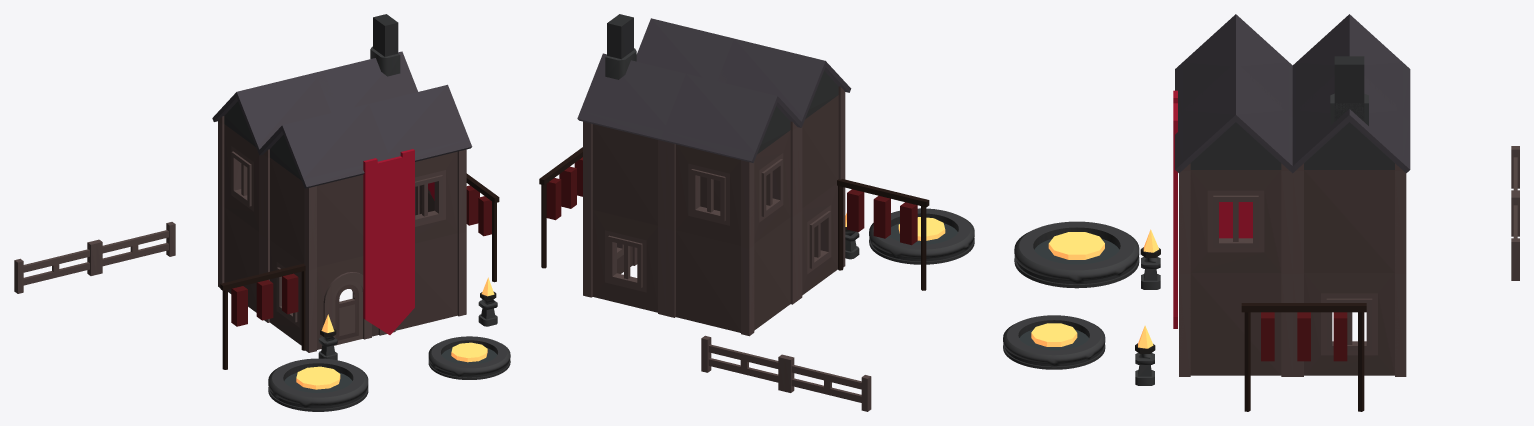
File: slaughter_l3.glb
The picture shows the model from 3 angles, left to right: view 1: azimuth 30°, elevation 25°; view 2: azimuth 150°, elevation 25°; view 3: azimuth 270°, elevation 25°; orthographic projection. The views are drawn at different scales.
Parts seen in each view (by area): view 1: slaughter_l3; view 2: slaughter_l3; view 3: slaughter_l3.
Part boxes in pixels (x1,y1,x2,y2): slaughter_l3: [14, 14, 510, 411]; slaughter_l3: [539, 14, 974, 411]; slaughter_l3: [1003, 14, 1519, 411].
Bounding box in the file's own units: 7.9 × 4.97 × 7.54.
